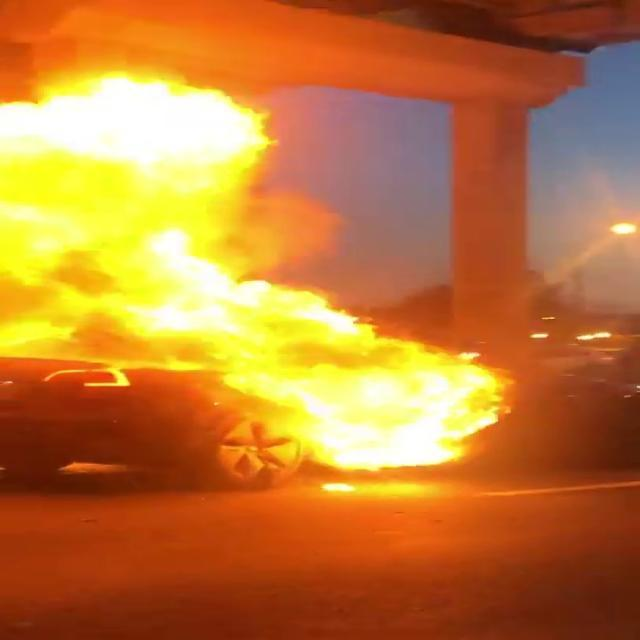Fire: (1, 68, 508, 486)
